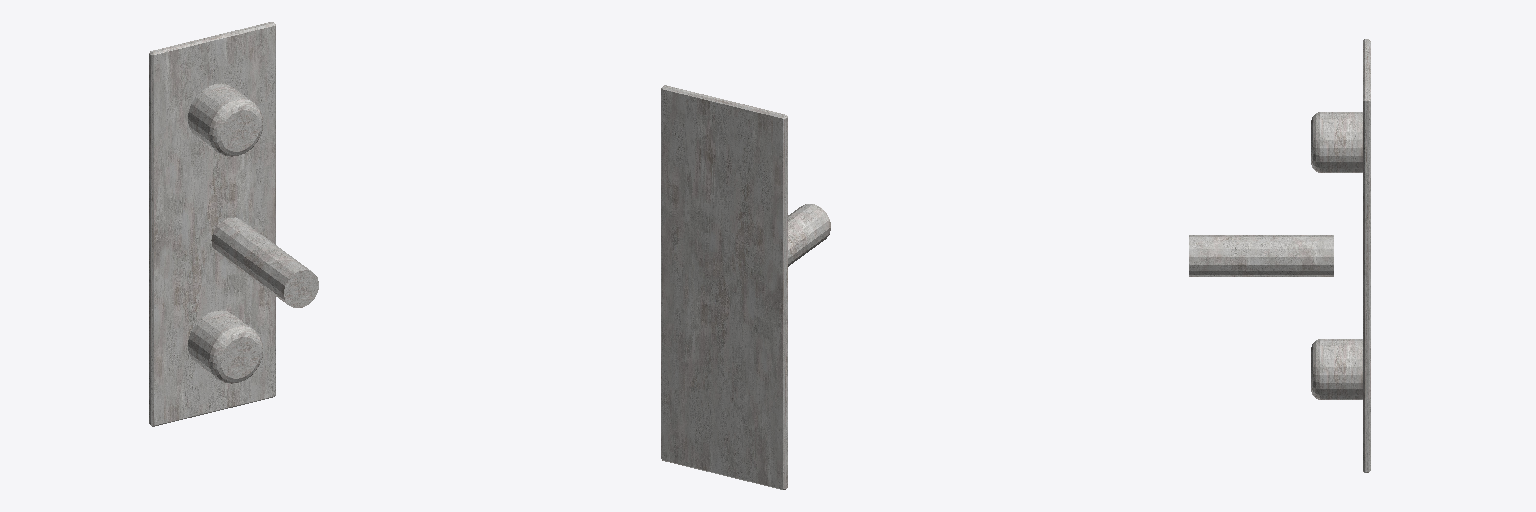
3 renders of one model, left to right at view 1: azimuth 30°, elevation 25°; view 2: azimuth 150°, elevation 25°; view 3: azimuth 270°, elevation 25°, orthographic.
Size of the model in its own units: 0.35 by 1 by 0.4406.
1 materials, 1 textured.